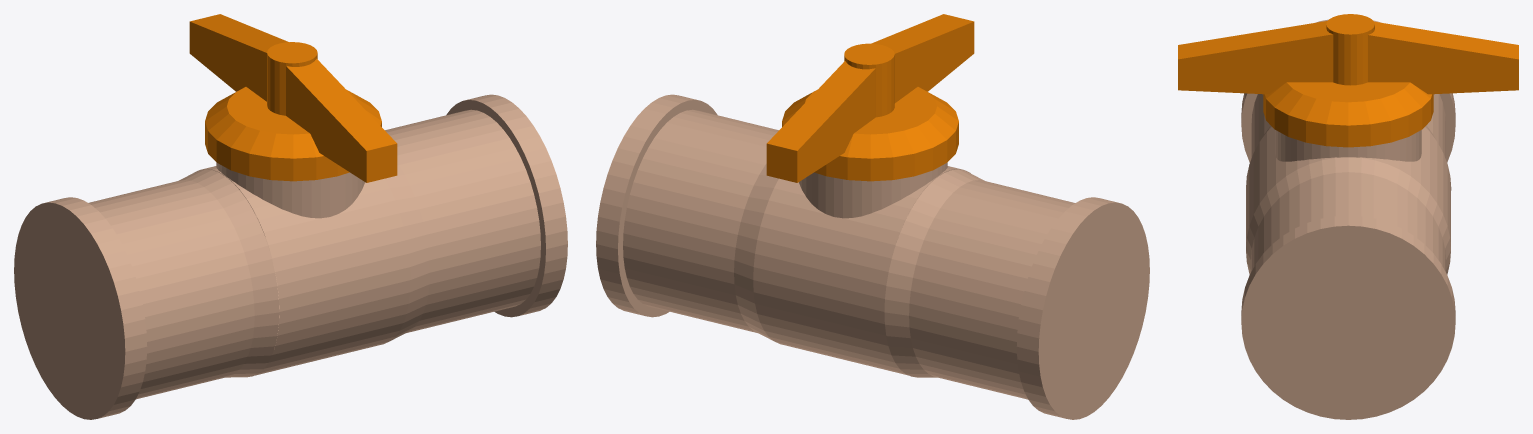
Rendered from Registro40mm.fbx.
The picture shows the model from 3 angles, left to right: view 1: azimuth 30°, elevation 25°; view 2: azimuth 150°, elevation 25°; view 3: azimuth 270°, elevation 25°; orthographic projection. The views are drawn at different scales.
Parts seen in each view (by area): view 1: Cano, Alavanca; view 2: Cano, Alavanca; view 3: Cano, Alavanca.
Part boxes in pixels (x1=…): Cano: x1=14, y1=94, x2=567, y2=419; Alavanca: x1=189, y1=14, x2=397, y2=182; Cano: x1=596, y1=94, x2=1149, y2=419; Alavanca: x1=766, y1=14, x2=974, y2=182; Cano: x1=1241, y1=19, x2=1455, y2=419; Alavanca: x1=1178, y1=14, x2=1518, y2=147.
Bounding box in the file's own units: 10.11 × 6.63 × 7.
